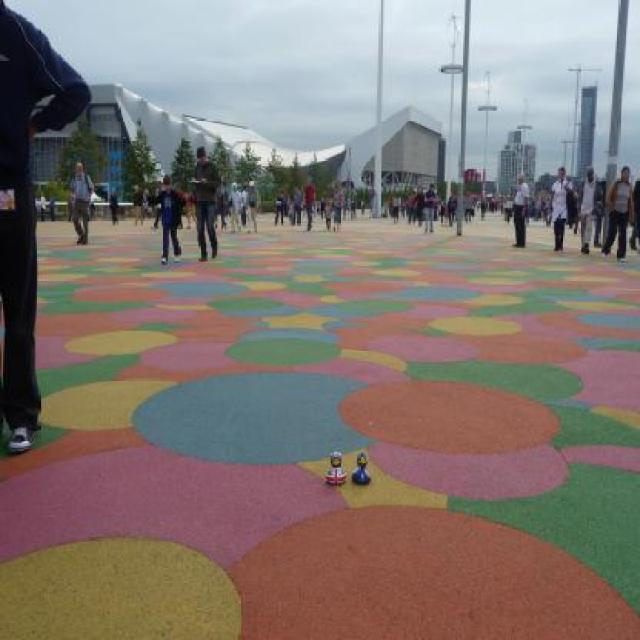Person: (0, 0, 95, 455), (276, 174, 366, 234), (389, 183, 476, 232), (148, 173, 188, 264), (182, 140, 212, 260), (600, 167, 635, 265), (475, 194, 579, 223), (214, 178, 264, 233), (549, 165, 576, 250), (575, 166, 600, 254), (69, 162, 94, 242), (513, 172, 529, 250), (628, 180, 640, 252), (186, 189, 202, 228), (131, 183, 144, 225), (108, 188, 119, 227), (152, 178, 160, 228), (38, 189, 45, 220), (49, 190, 54, 222), (146, 187, 151, 219), (370, 201, 376, 219)
